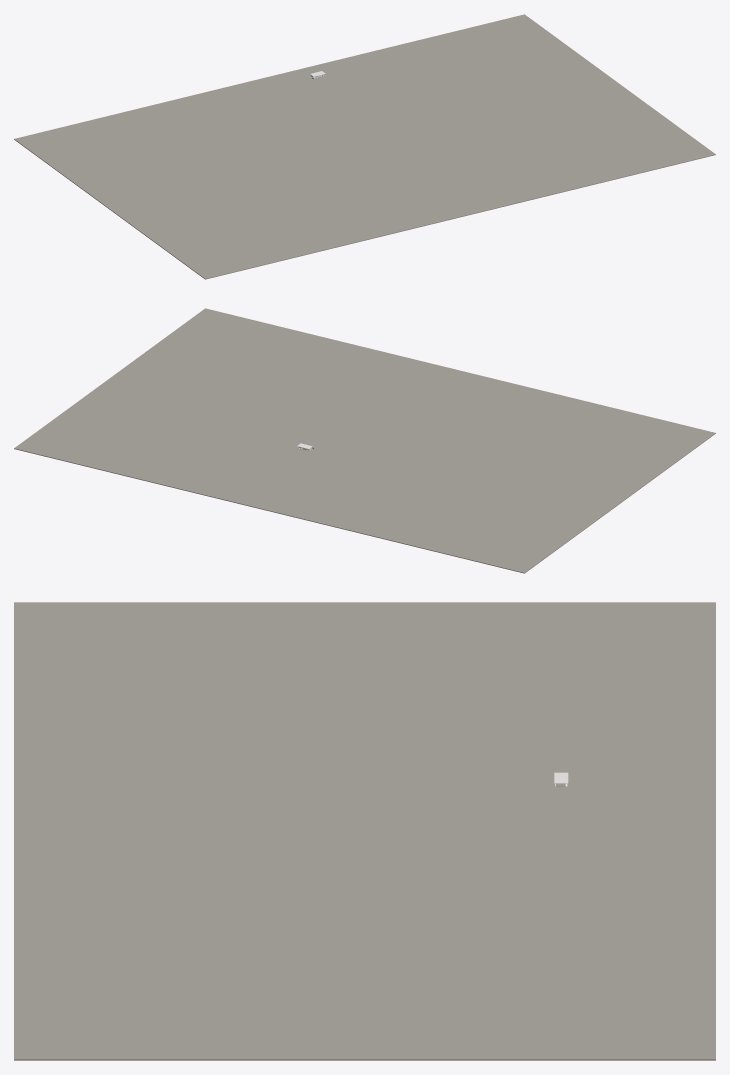
3 views of the same model, one above another, from view 1: azimuth 30°, elevation 25°; view 2: azimuth 150°, elevation 25°; view 3: azimuth 270°, elevation 25° (orthographic). The views are drawn at different scales.
Parts seen in each view (by area): view 1: Ville_sol; view 2: Ville_sol; view 3: Ville_sol.
Boxes of the visible parts, box(x1,y1,x2,y2) form: Ville_sol: box(14, 14, 715, 279); Ville_sol: box(14, 308, 715, 573); Ville_sol: box(14, 602, 715, 1060).
Size of what is drawn, in the model's own units: 800 by 48.9 by 519.
43 materials, 15 textured.
